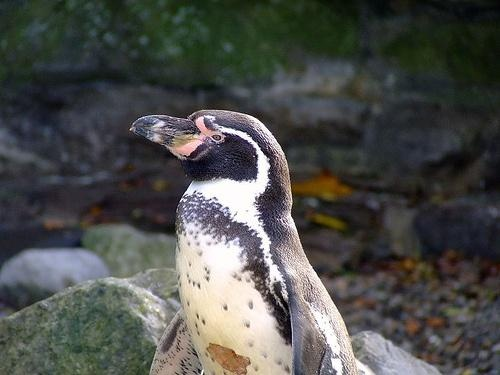bird: (131, 110, 358, 375)
